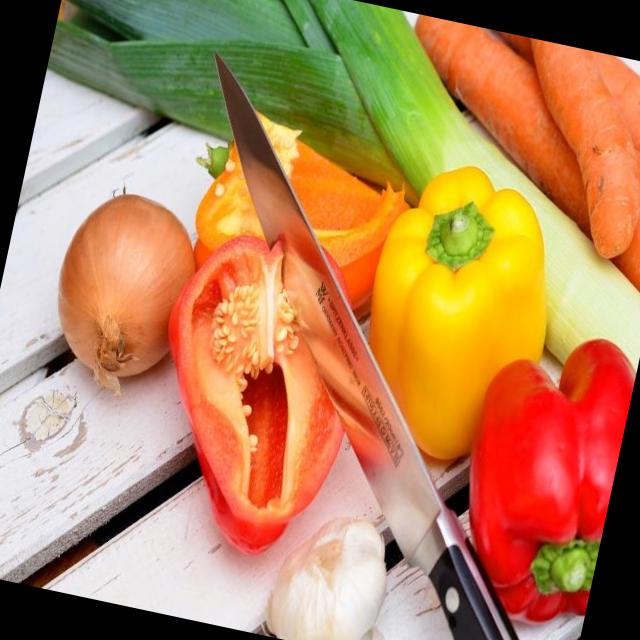Knife: (216, 55, 516, 640)
